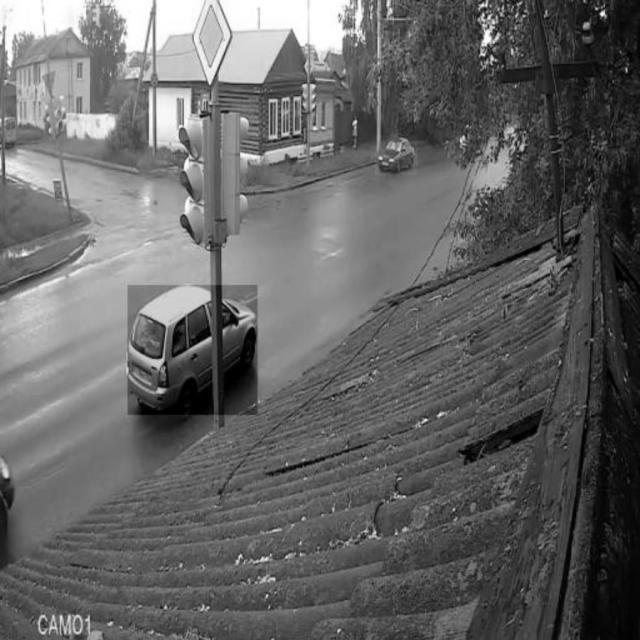vehicle: (127, 285, 258, 415), (375, 136, 417, 176)
